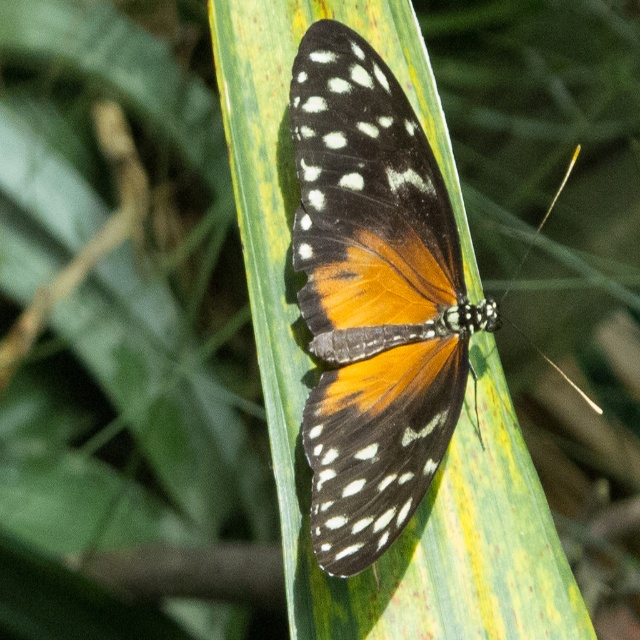Butterfly: (278, 4, 555, 593)
